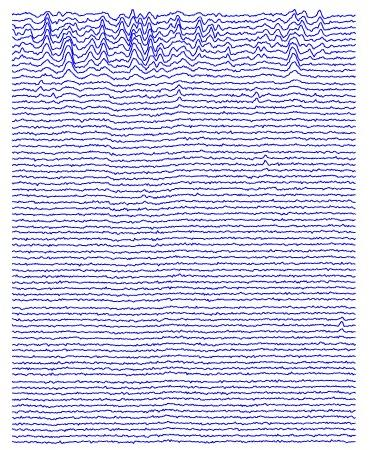defect: (118, 10, 165, 71), (284, 9, 325, 69), (173, 14, 219, 59), (247, 20, 279, 64), (87, 17, 109, 70), (59, 24, 75, 83), (37, 9, 52, 66), (32, 76, 56, 103), (171, 77, 186, 106), (251, 85, 263, 110), (335, 311, 346, 337)
